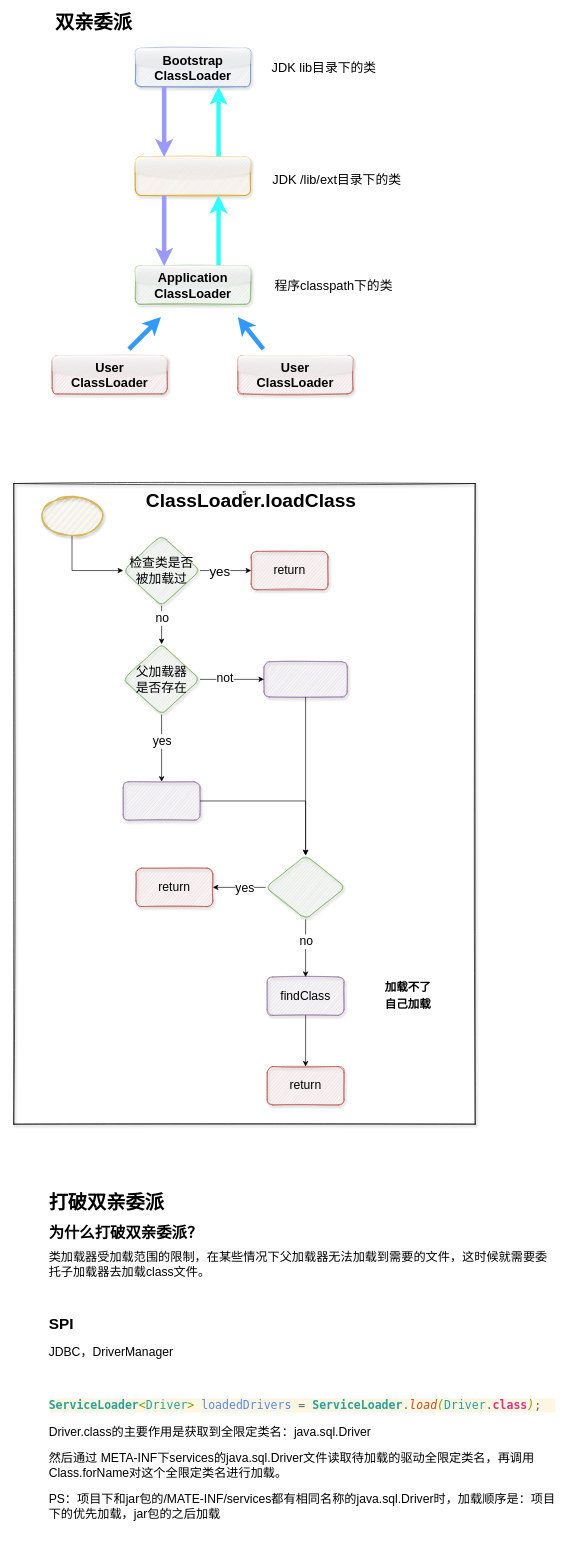
Image size: 569x1544. Some labels were removed from this diagram. Each missing label, with the centre of its shape:
"Extension ClassLoader" goes at point 193,177.
"开始" goes at point 72,516.
"类对象 是否被成功 加载" goes at point 305,888.
"调用Bootstrap加载" goes at point 306,680.
"调用Ext加载" goes at point 162,802.
